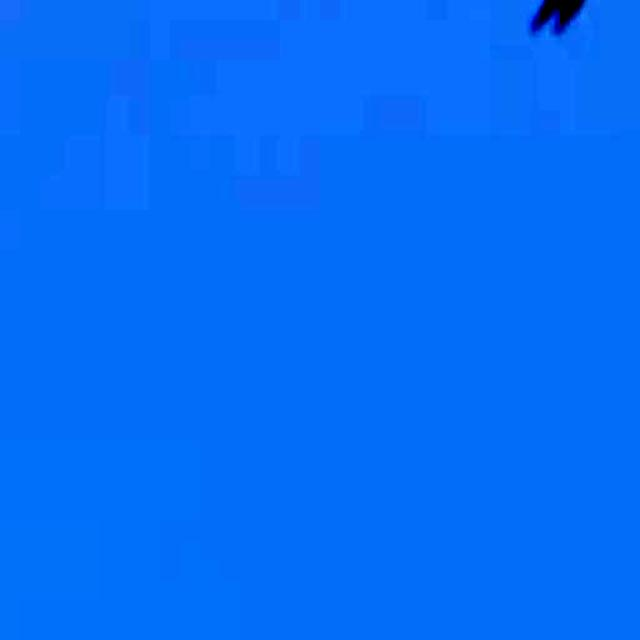airplane: (515, 0, 629, 50)
